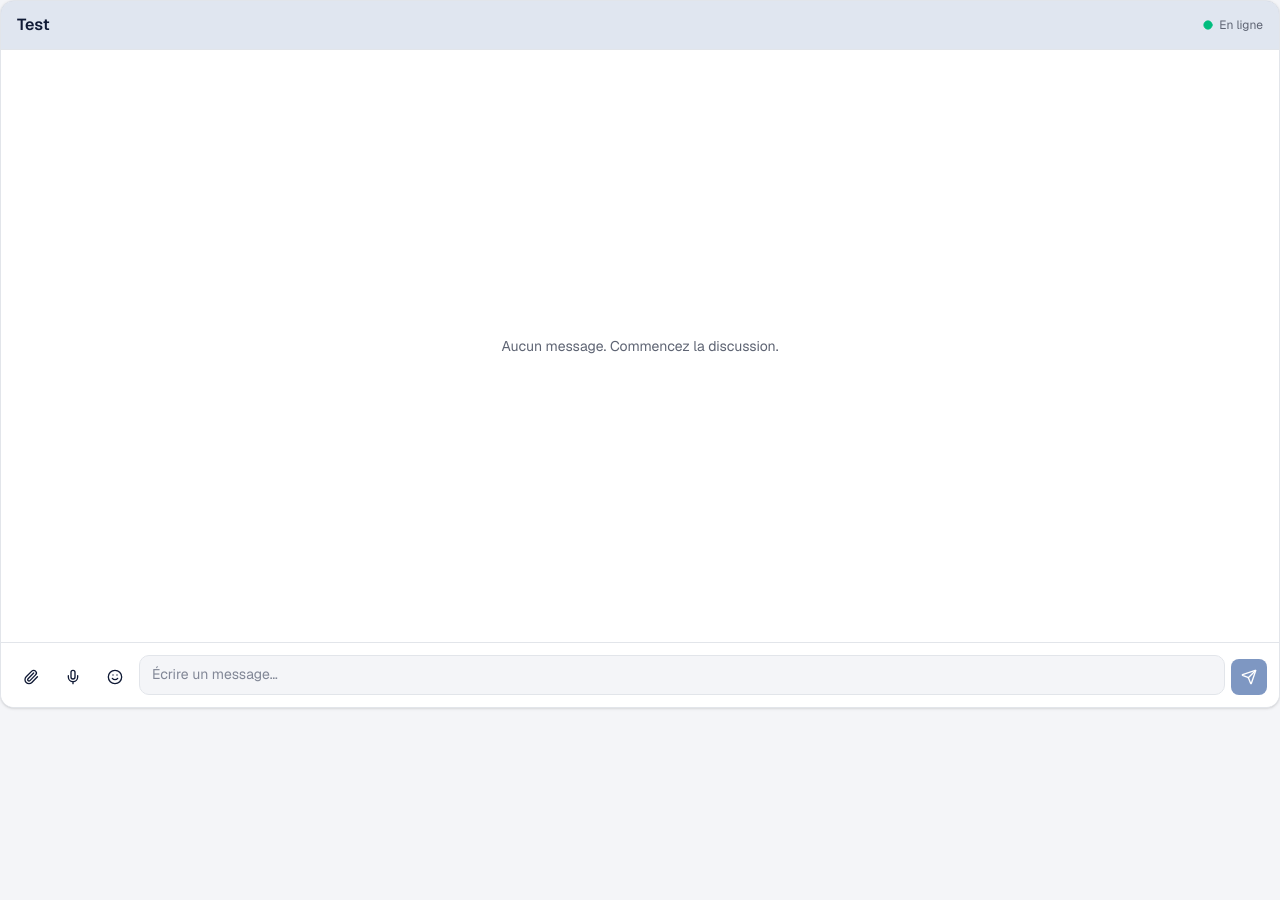
ChatConversation — écho optimiste et retry hors-ligne (issue #260) › removes a pending message when "Supprimer" is clicked, without contacting the server
This screenshot has width=1280, height=900.
Type "À supprimer" into the text box labelled "message" at point(682, 675), box [139,655,1225,695]
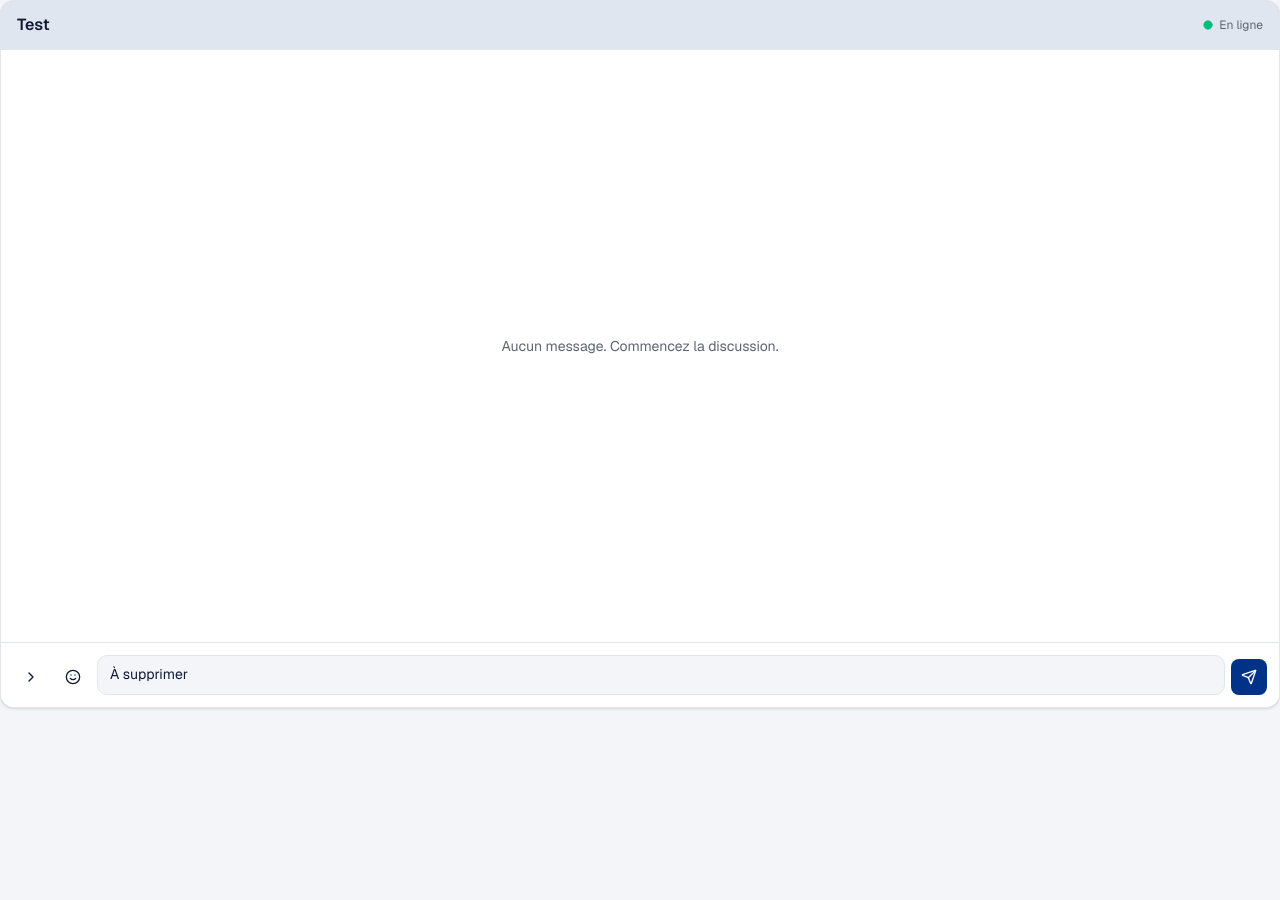
Click the button named "Envoyer" at point(1249, 677), box [1231,659,1267,695]
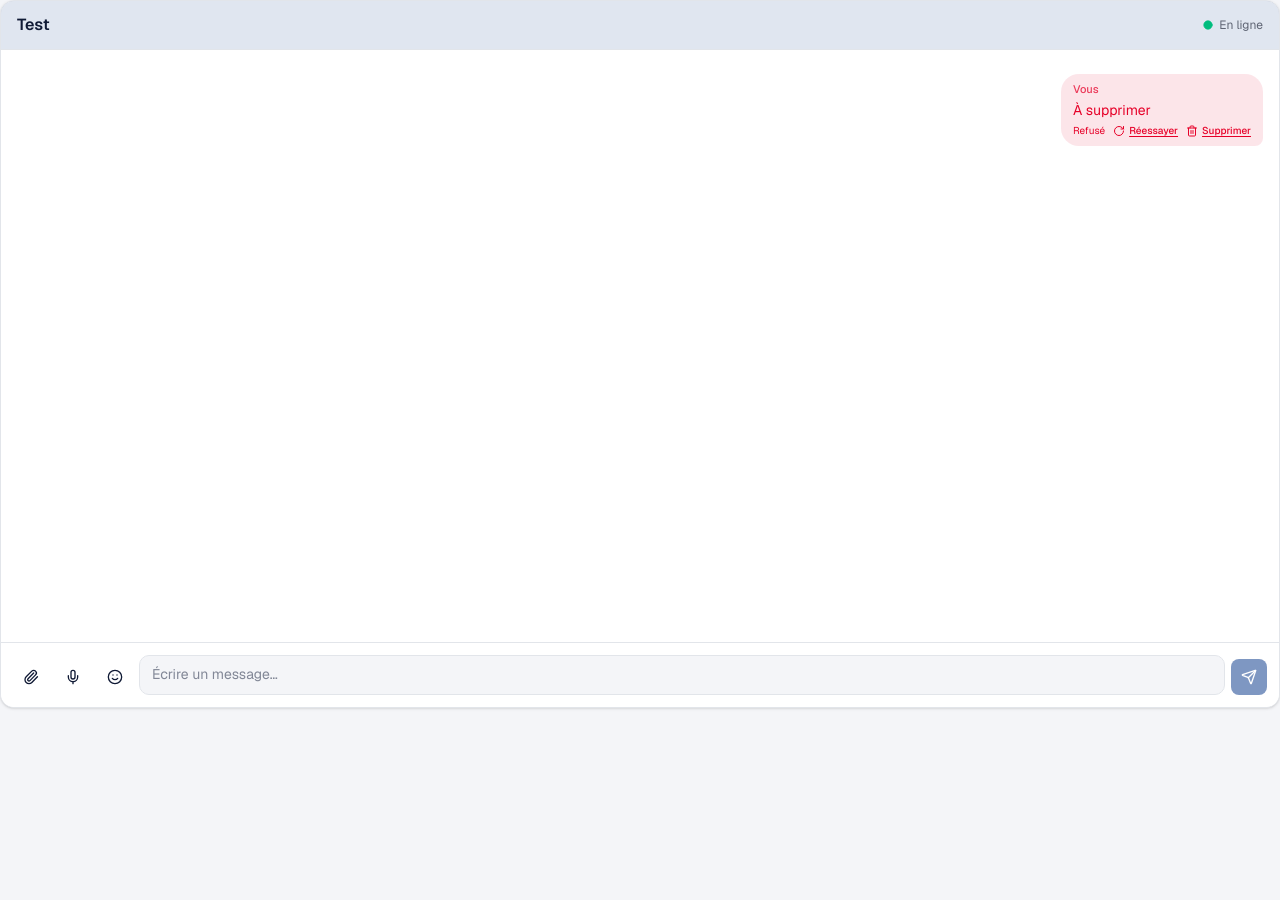
Expected: the button "Supprimer" is shown
Click the button "Supprimer" at point(1218, 131), box [1186,124,1251,138]
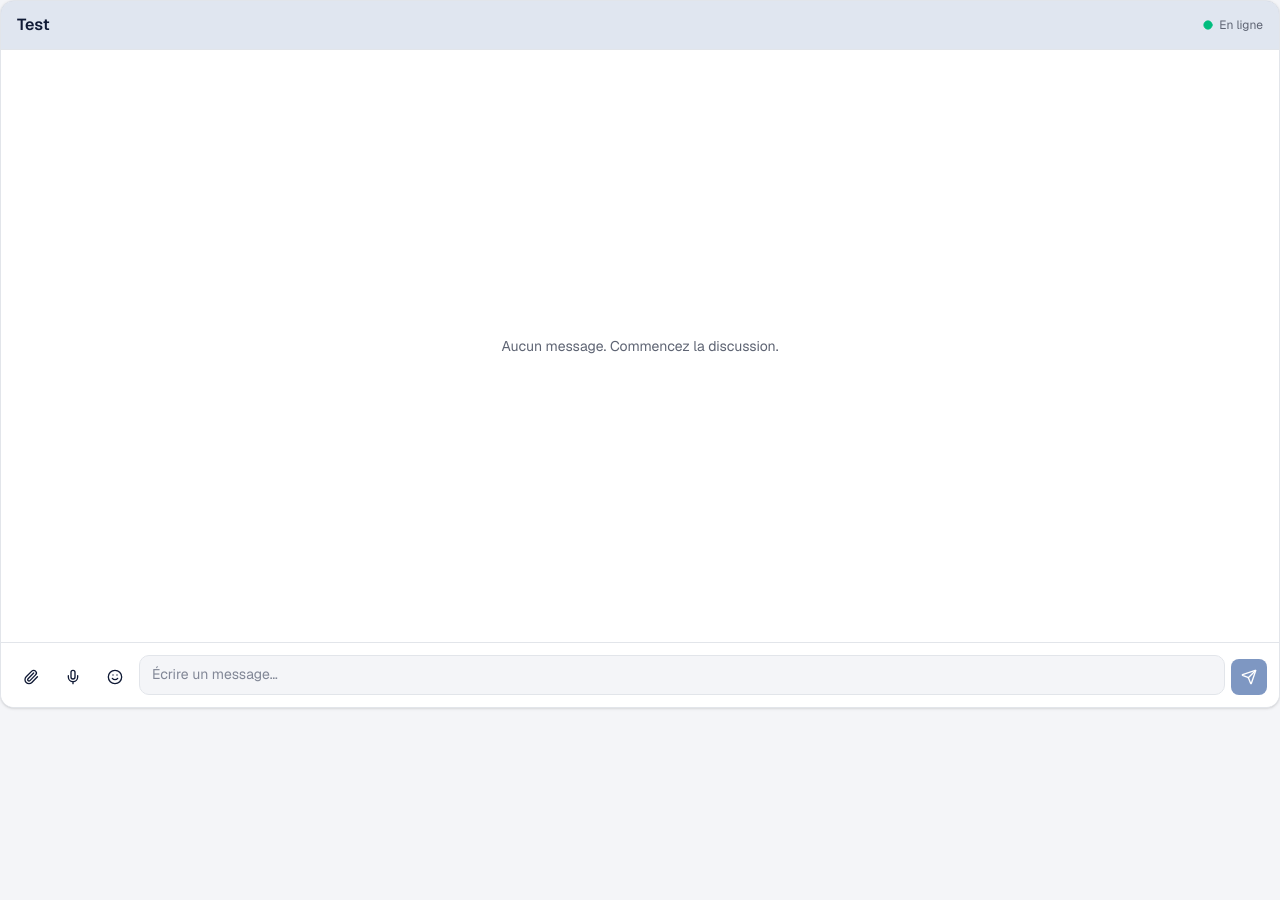
Expected: the text "À supprimer" is gone
